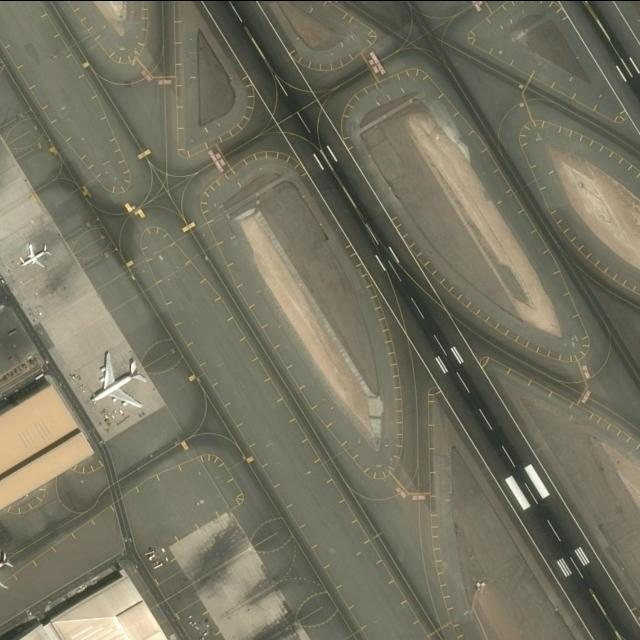Aircraft: (90, 349, 146, 411), (20, 239, 50, 271), (1, 544, 15, 591)
